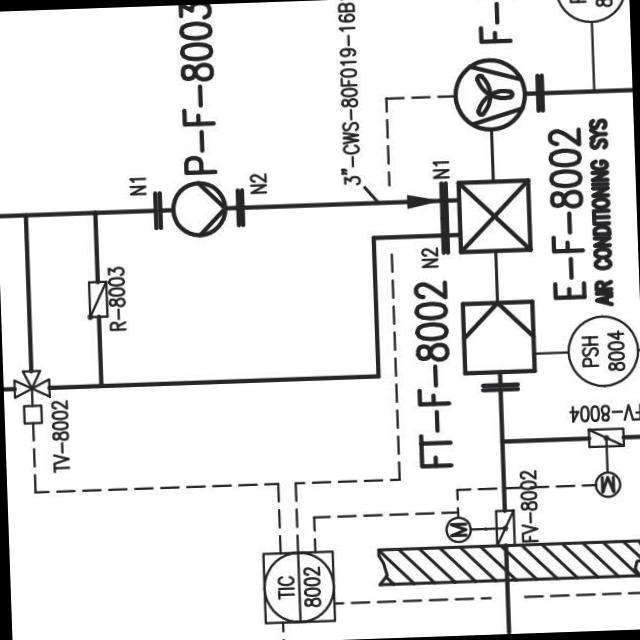3W: (9, 366, 55, 400)
CV2: (80, 277, 110, 324), (489, 502, 519, 546), (582, 425, 625, 449)
F: (450, 58, 529, 130)
P: (166, 181, 228, 238)
